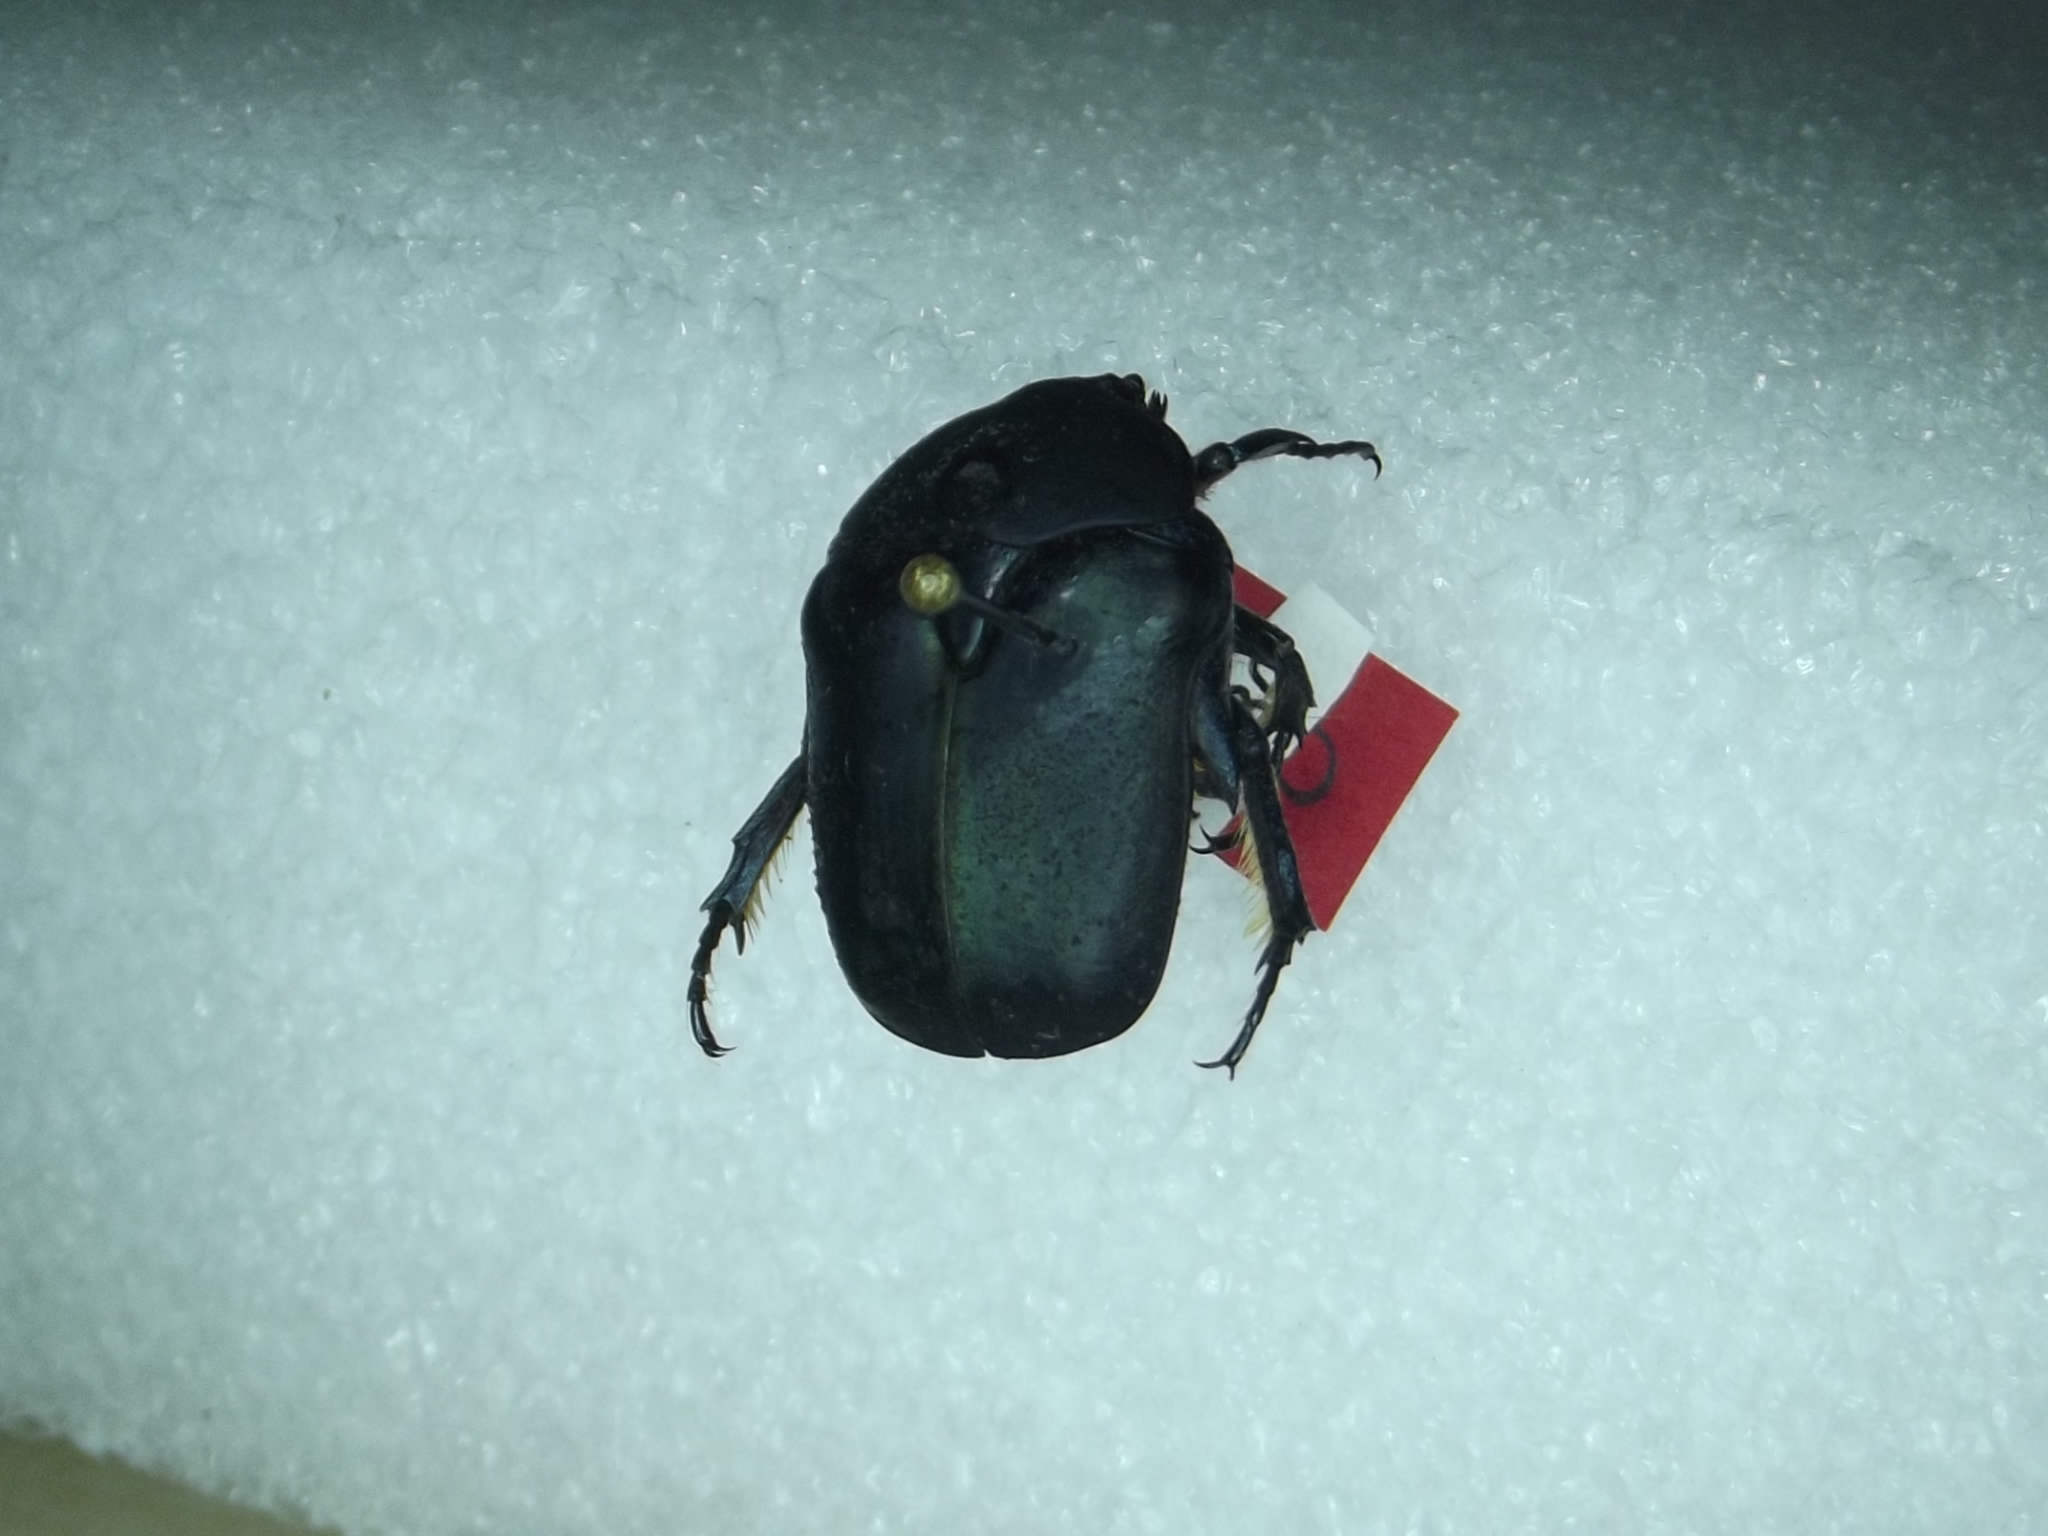Protaetia_afflicta: (643, 349, 1421, 1108)
